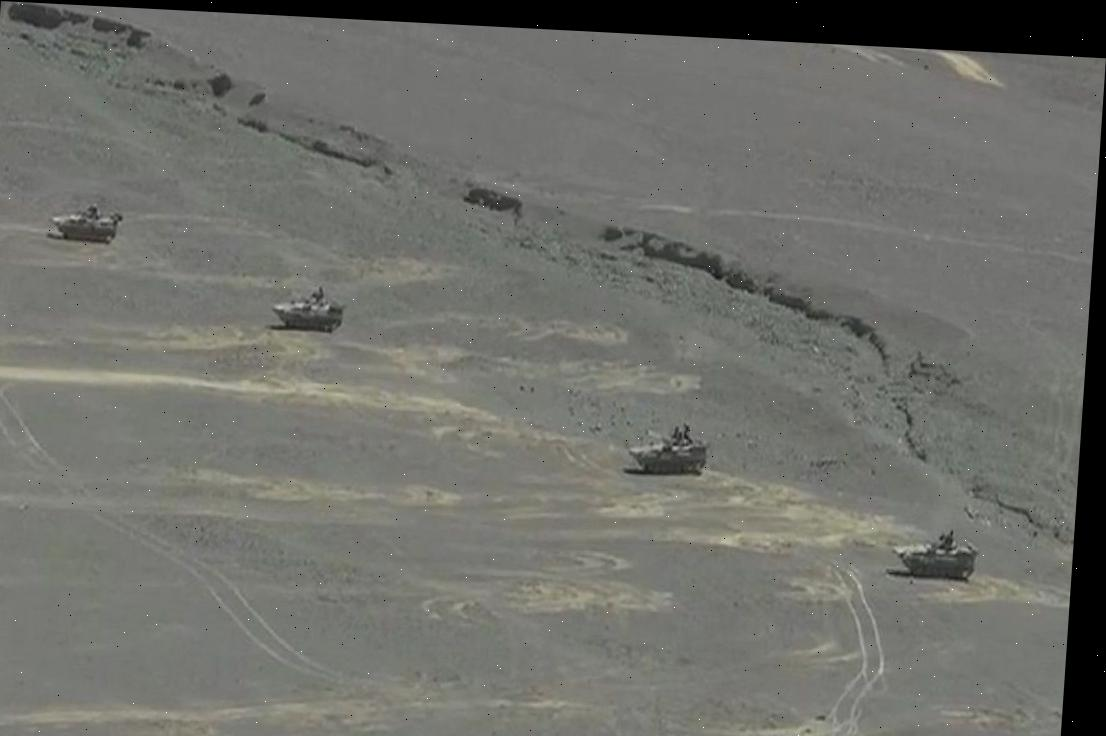armored_car: (884, 525, 980, 583), (620, 420, 710, 478), (267, 281, 345, 333), (44, 201, 122, 244)
